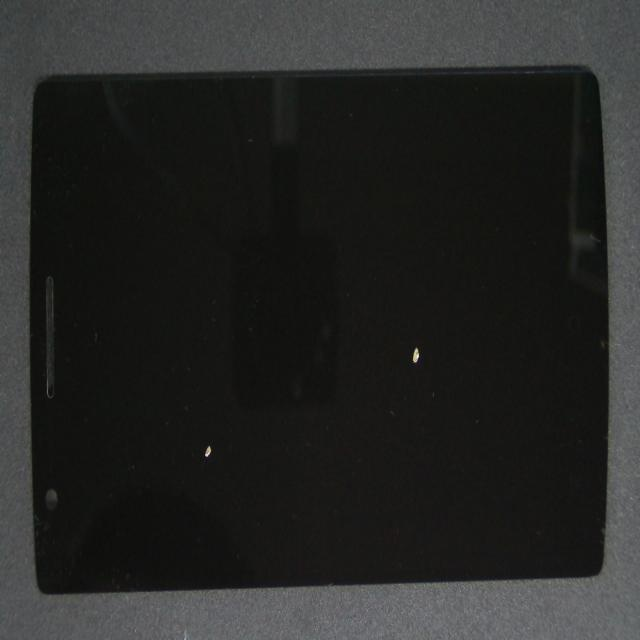stain: (217, 200, 640, 527), (124, 215, 316, 640)
